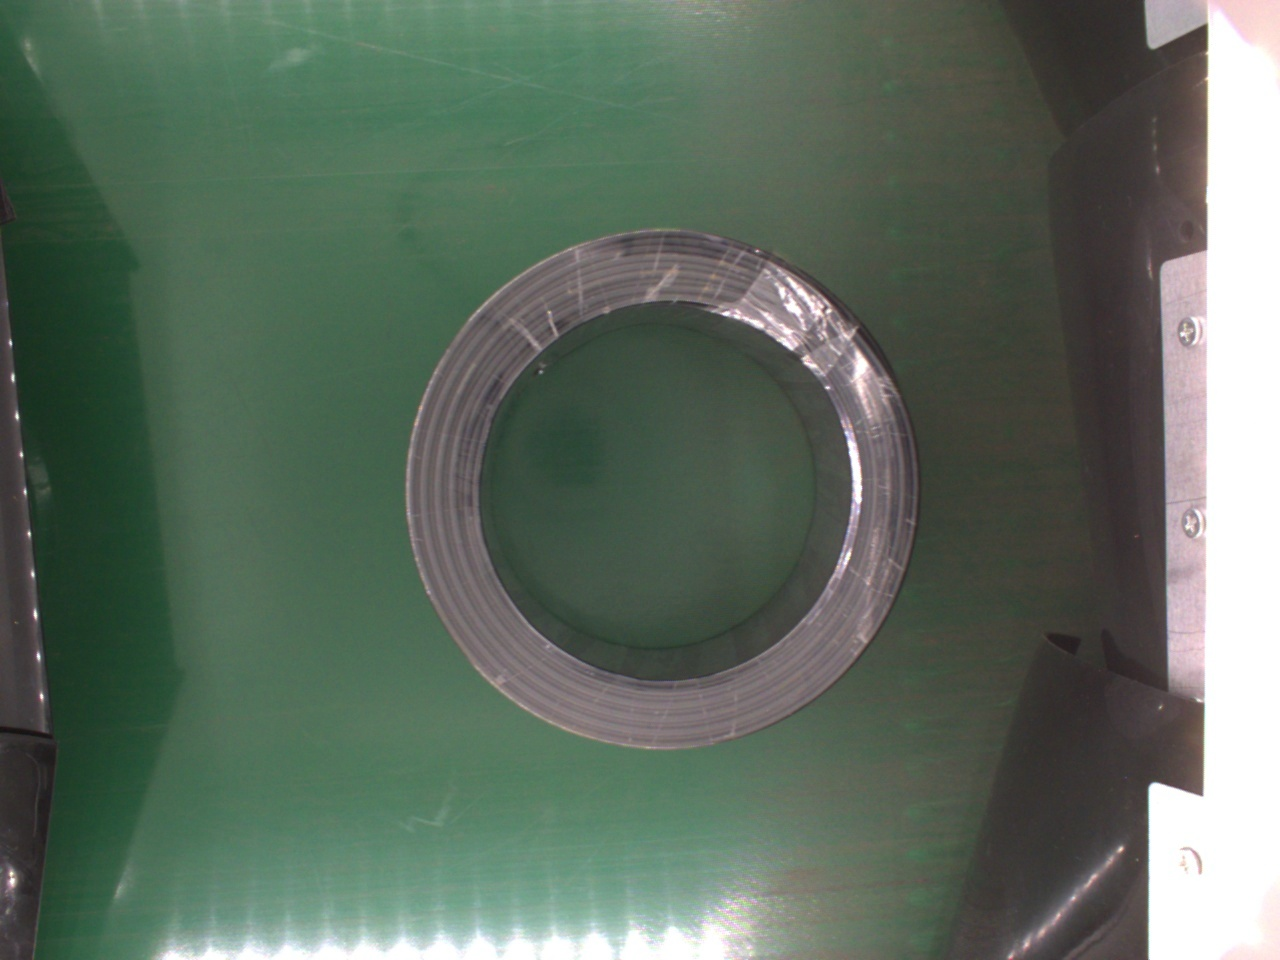black: (405, 225, 920, 755)
